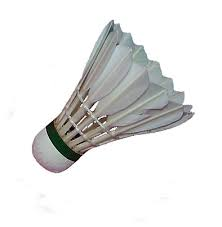shuttle: (29, 15, 193, 167)
